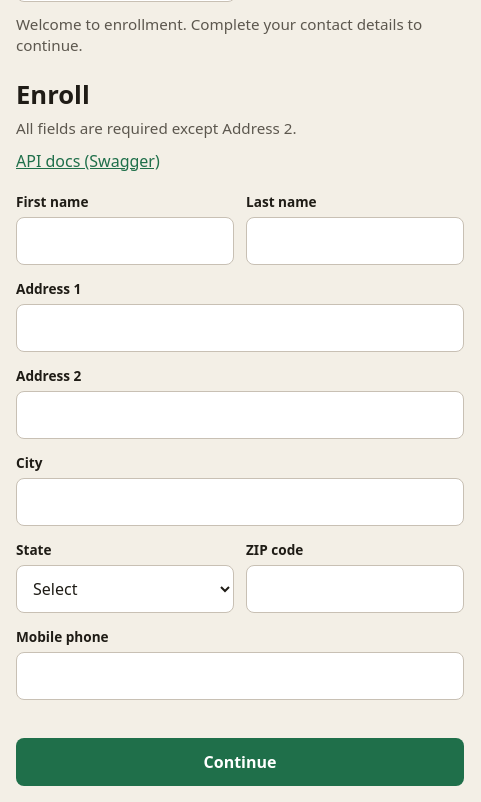
Test case: JSPEnrollment GUI › shows required-field errors when Continue is clicked empty
This screenshot has width=481, height=802.
(page scrolled)
Click the button "Continue": (240, 762) [16, 738, 464, 786]
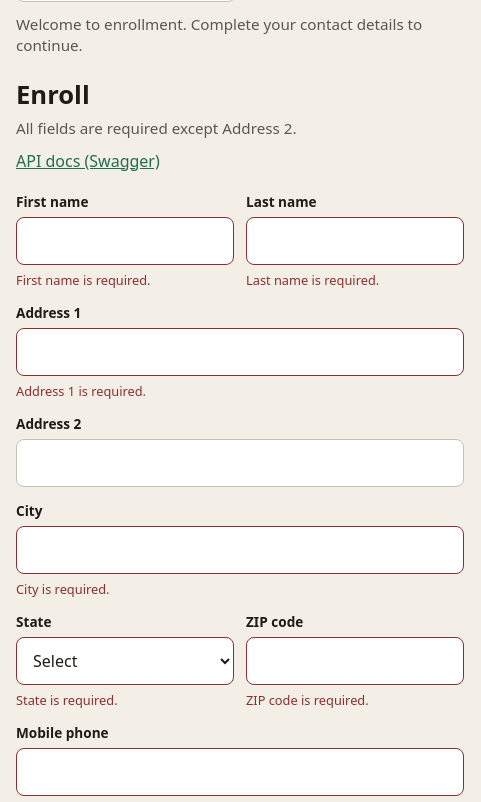
Check: the heading "Enroll" is shown, box [16, 77, 90, 112]
Check: the text "First name is required." is shown, box [16, 271, 150, 289]
